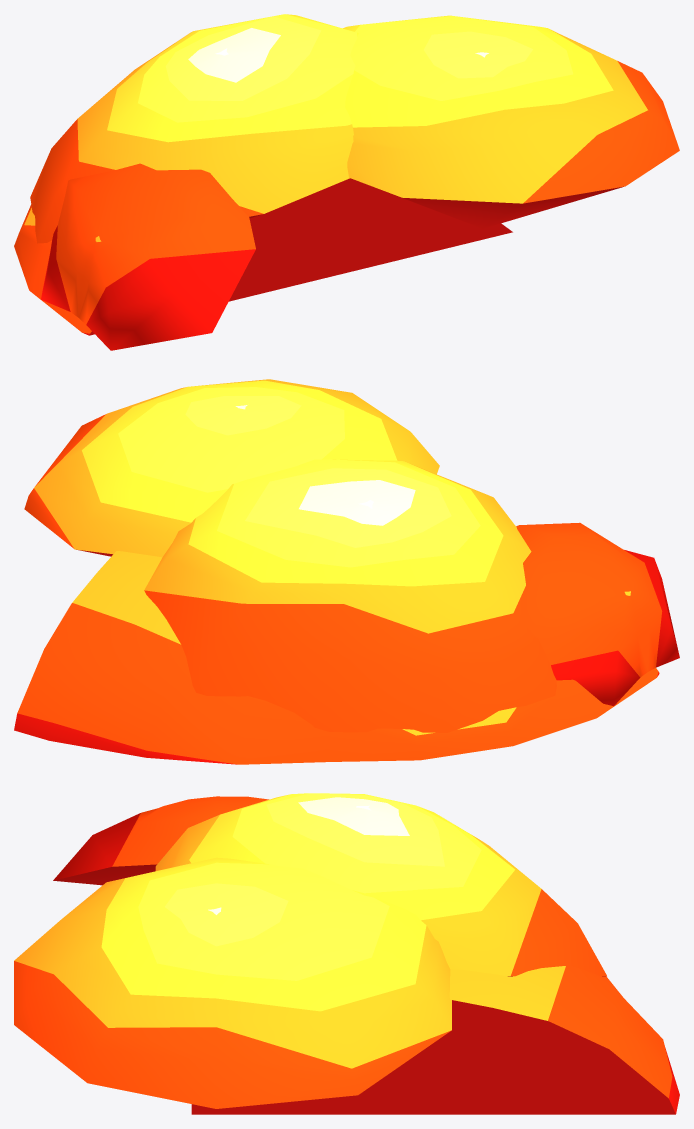
The model's file is shot_zflame_172.glb.
3 views of the same model, one above another, from view 1: azimuth 30°, elevation 25°; view 2: azimuth 150°, elevation 25°; view 3: azimuth 270°, elevation 25° (orthographic). The views are drawn at different scales.
Visible parts, largest first — view 1: zflame_0_billow1_b172, zflame_0_billow0_b172, zflame_0_billow5_b172, zflame_0_bed_b172; view 2: zflame_0_billow0_b172, zflame_0_bed_b172, zflame_0_billow1_b172, zflame_0_billow5_b172; view 3: zflame_0_billow1_b172, zflame_0_bed_b172, zflame_0_billow0_b172, zflame_0_billow5_b172.
Boxes of the visible parts, bbox=[...] form: zflame_0_billow1_b172: bbox=[343, 15, 679, 228]; zflame_0_billow0_b172: bbox=[30, 14, 358, 243]; zflame_0_billow5_b172: bbox=[41, 163, 255, 350]; zflame_0_bed_b172: bbox=[14, 178, 512, 335]; zflame_0_billow0_b172: bbox=[144, 459, 556, 732]; zflame_0_bed_b172: bbox=[14, 551, 659, 764]; zflame_0_billow1_b172: bbox=[24, 379, 439, 557]; zflame_0_billow5_b172: bbox=[516, 522, 679, 706]; zflame_0_billow1_b172: bbox=[14, 857, 451, 1108]; zflame_0_bed_b172: bbox=[191, 966, 679, 1114]; zflame_0_billow0_b172: bbox=[155, 793, 606, 976]; zflame_0_billow5_b172: bbox=[53, 796, 268, 885].
Size of the model in its own units: 15.21 by 4.42 by 13.49.
